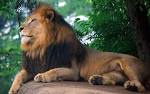lion: (10, 9, 149, 94)
